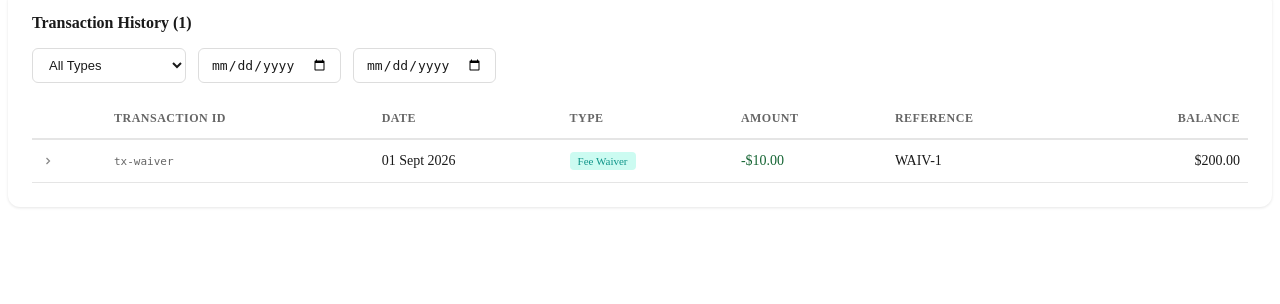
Test: TransactionHistory — transaction detail disclosure › reports expanded state and collapses again
Step 1. Click the button named "show details" → click(48, 161), box [36, 149, 60, 173]
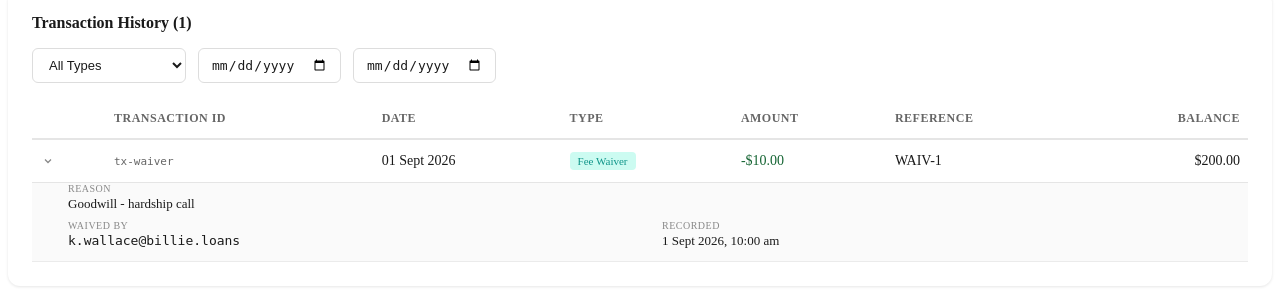
Expected: the button named "hide details" is expanded
Step 2. Click the button named "hide details" → click(48, 161), box [36, 149, 60, 173]
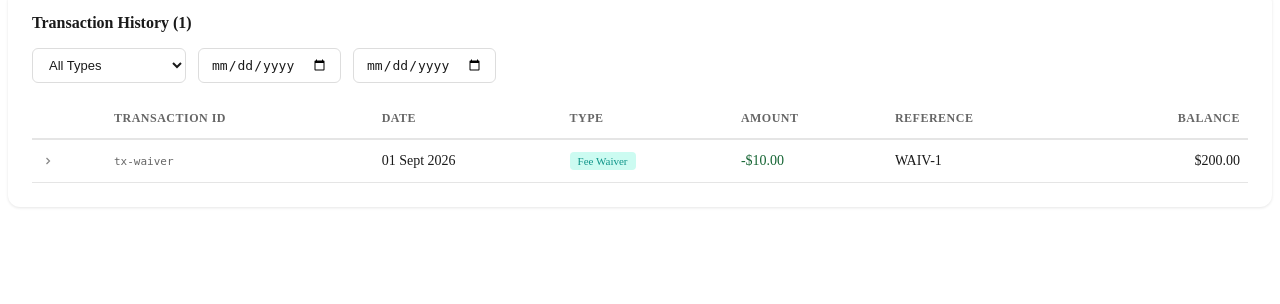
Expected: the text "Goodwill - hardship call" is gone
